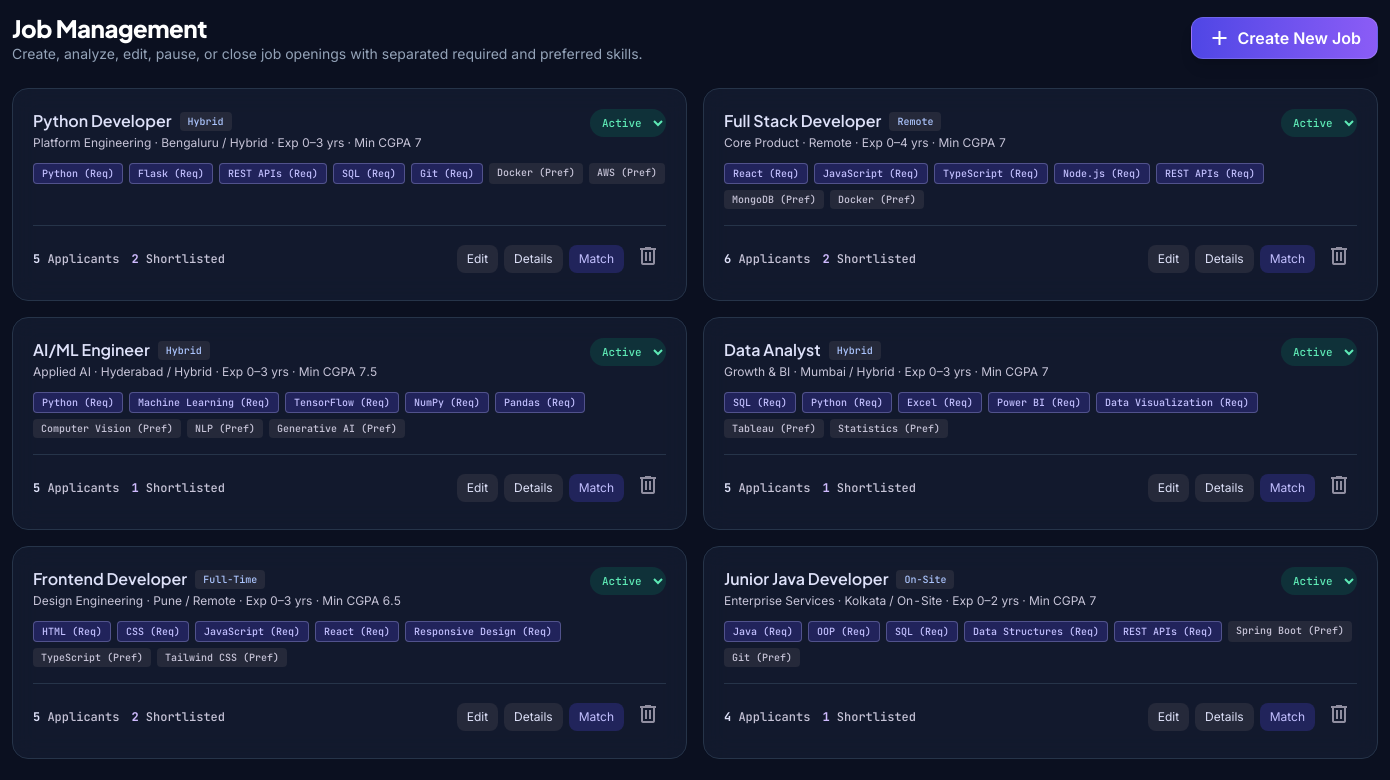
Test: UI Integration & Defect Verification (PRD Modules 4–23) › DEFECT-5 / JOB-014 & JOB-015 REGRESSION: Deleting a job requires confirmation & can be canceled
Click the button titled "Delete job" below "AWS".
click(648, 259)  # box [630,238,666,280]
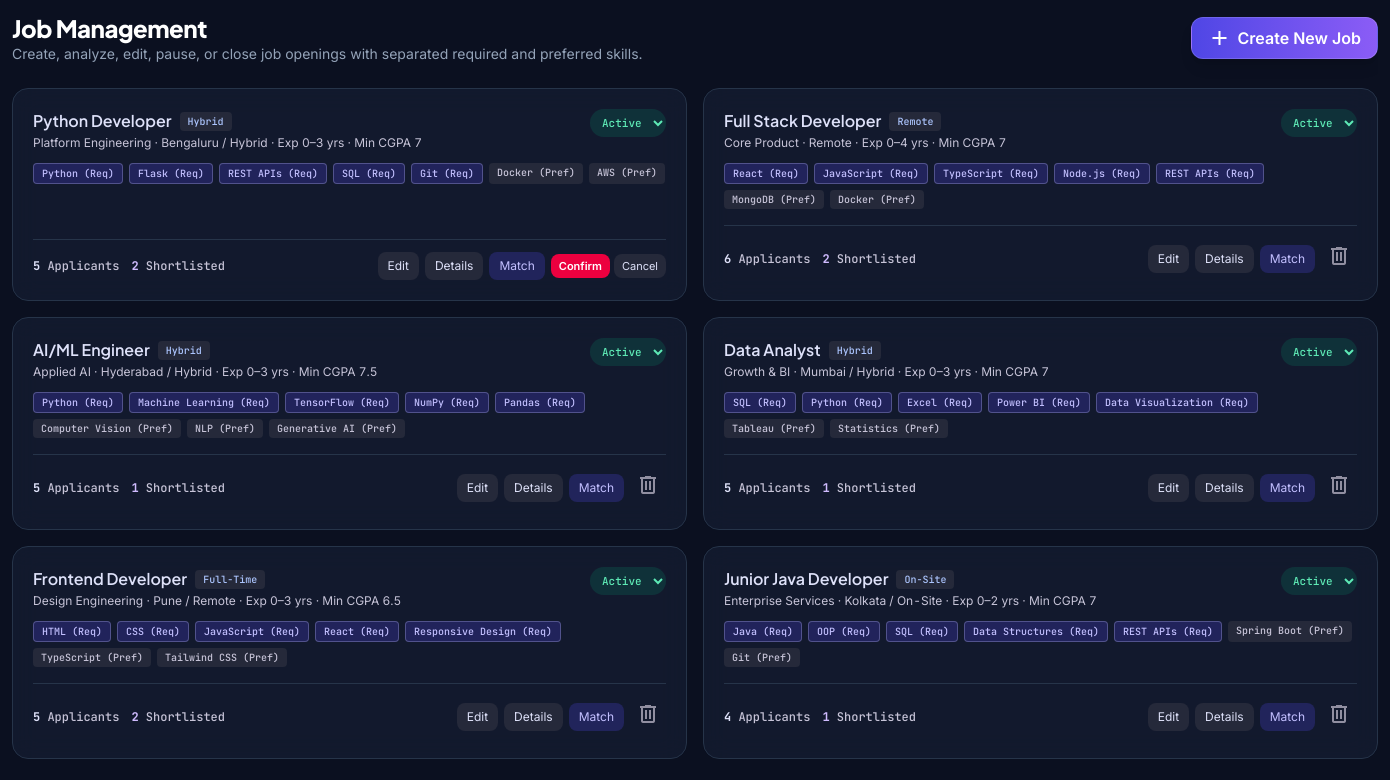
Expected: the text "5 Applicants" is shown 6 times, [33,258,119,274]; [724,251,810,267]; [33,480,119,496]; [724,480,810,496]; [33,709,119,725]; [724,709,810,725]
Expected: the button "Confirm" is shown, [551,254,610,278]
Click the button "Cancel".
click(640, 266)  # box [614,254,666,278]
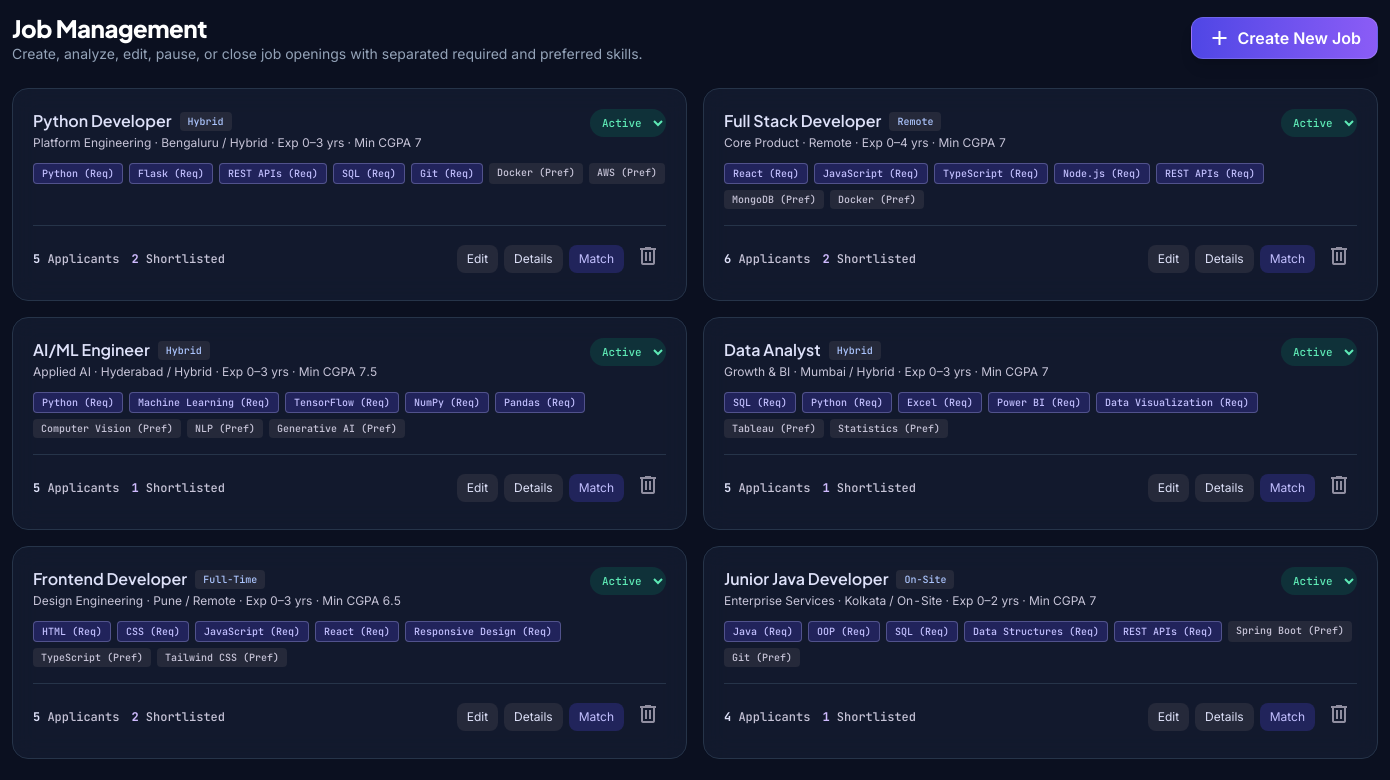
Expected: the number of buttons titled "Delete job" is 6, [630,238,666,280]; [1321,238,1357,280]; [630,467,666,509]; [1321,467,1357,509]; [630,696,666,738]; [1321,696,1357,738]
